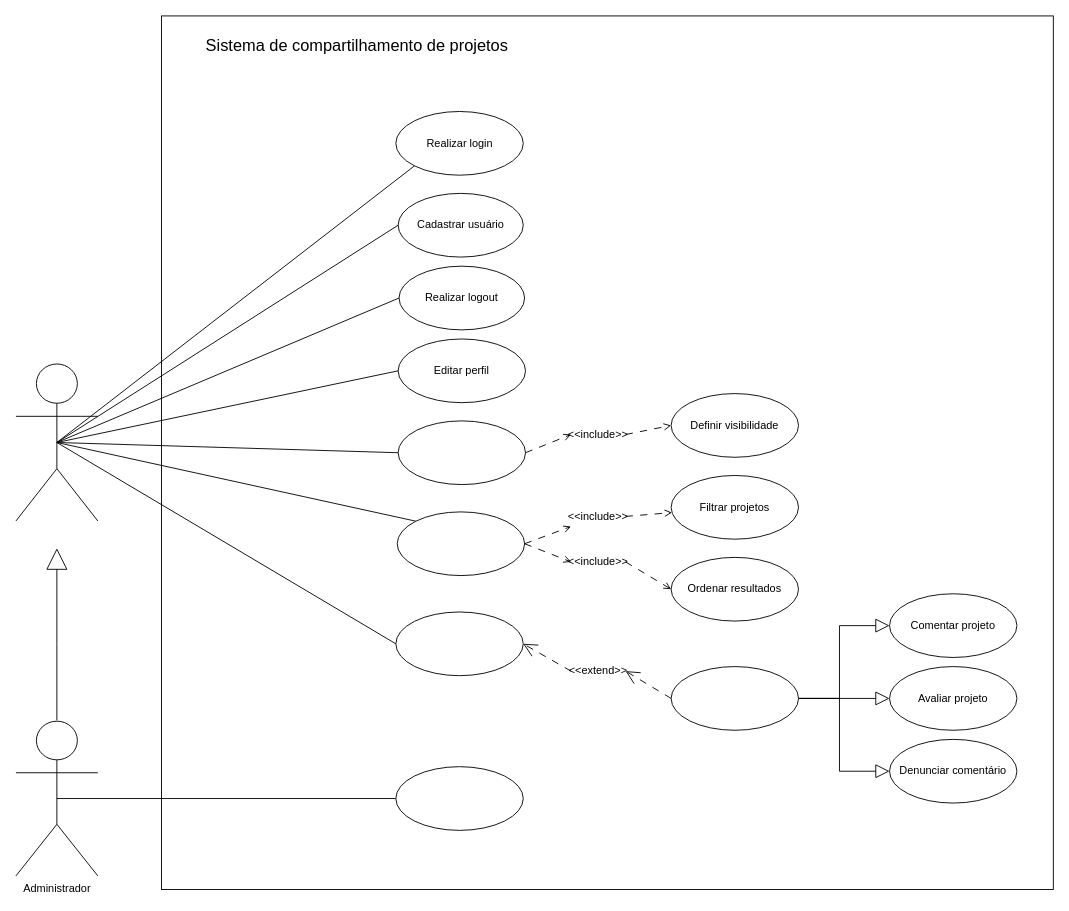
This 1069x911 diagram has some shape labels left out. The centre of each missing label's shape, as x and y in pixels:
Buscar projetos: (460,543)
Gerenciar projetos: (461,452)
interagir com projetos: (734,698)
Remover conteúdo inadequado: (459,798)
Usuário: (56,442)
Visualizar projetos: (459,643)
